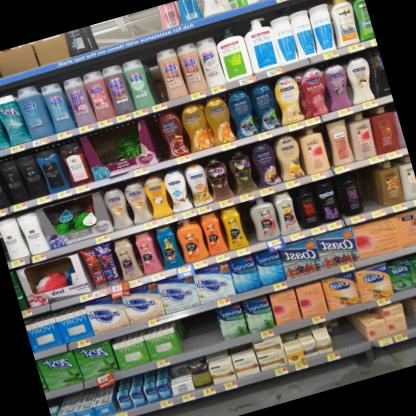empty_space: (90, 7, 162, 48), (174, 310, 224, 353), (142, 50, 173, 103), (352, 168, 380, 210), (327, 317, 360, 352), (397, 297, 416, 334)
